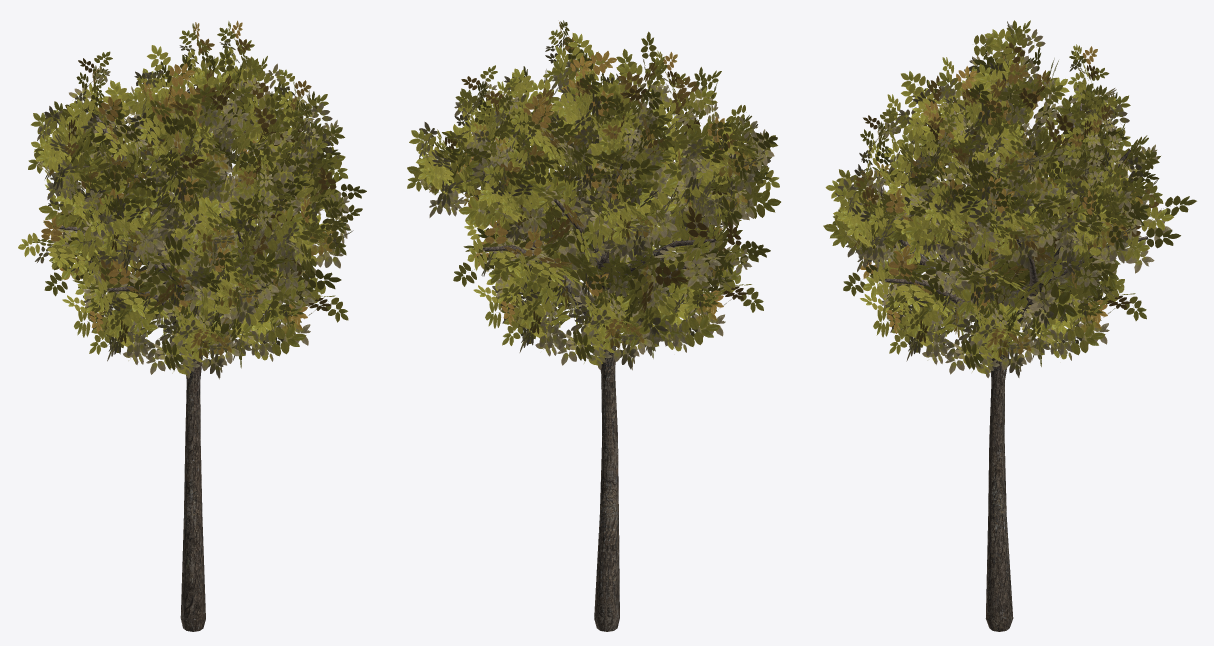
The model's file is tree.glb.
3 renders of one model, left to right at view 1: azimuth 30°, elevation 25°; view 2: azimuth 150°, elevation 25°; view 3: azimuth 270°, elevation 25°, orthographic. The views are drawn at different scales.
Parts seen in each view (by area): view 1: tak001_M_greenRed_0, tak001_M_bark_0; view 2: tak001_M_greenRed_0, tak001_M_bark_0; view 3: tak001_M_greenRed_0, tak001_M_bark_0.
Boxes of the visible parts, x1,y1,x2,y2 form: tak001_M_greenRed_0: (18,20,366,379); tak001_M_bark_0: (59,102,309,631); tak001_M_greenRed_0: (407,20,780,370); tak001_M_bark_0: (476,132,715,631); tak001_M_greenRed_0: (823,20,1196,377); tak001_M_bark_0: (876,103,1148,631).
Size of the model in its own units: 5.56 by 9.34 by 5.68.
Materials: 2 (2 with a texture image).
